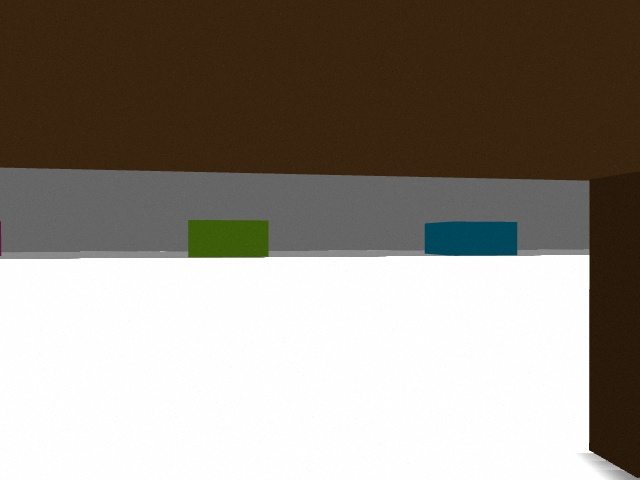blue_drop_zone: (425, 221, 517, 256)
green_drop_zone: (188, 220, 269, 257)
